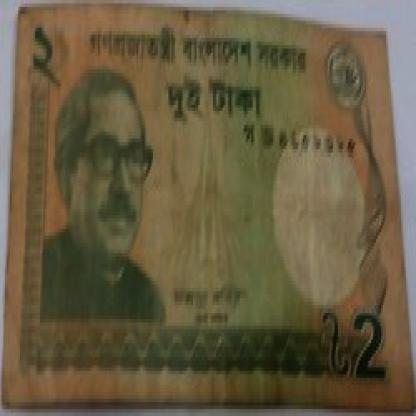two taka: (341, 308, 389, 385), (25, 24, 80, 80)
